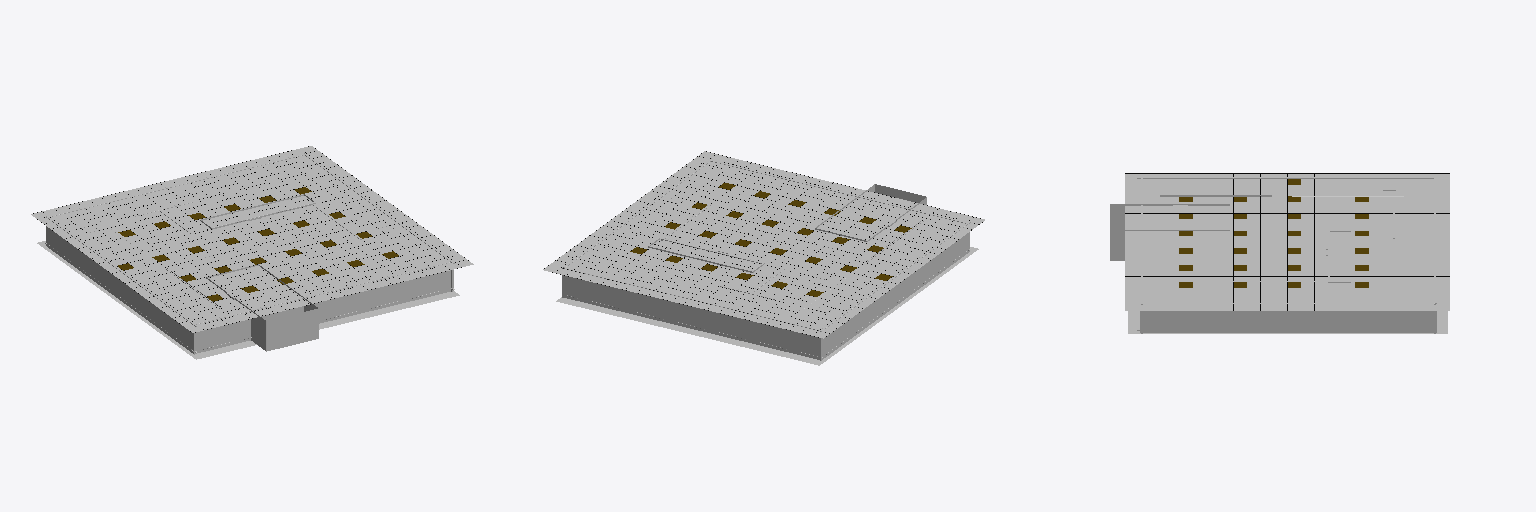
The model's file is Backrooms_Original_Baked.obj.
The picture shows the model from 3 angles: view 1: azimuth 30°, elevation 25°; view 2: azimuth 150°, elevation 25°; view 3: azimuth 270°, elevation 25°; orthographic projection.
Visible parts, largest first — view 1: Ceiling, BackWall_Double_BR.028, Air_Vent.005, Piece1, Carpet_v1.001; view 2: Ceiling, BackWall_Double_BR.028, Air_Vent.005, Carpet_v1.001, Piece1; view 3: Ceiling, BackWall_Double_BR.028, Air_Vent.005, Piece1, Carpet_v1.001.
Boxes of the visible parts, box(x1,y1,x2,y2) form: Ceiling: box(31, 146, 473, 332); BackWall_Double_BR.028: box(45, 153, 454, 354); Air_Vent.005: box(33, 146, 468, 332); Piece1: box(206, 264, 318, 351); Carpet_v1.001: box(37, 241, 459, 359); Ceiling: box(543, 151, 984, 338); BackWall_Double_BR.028: box(562, 158, 970, 360); Air_Vent.005: box(544, 151, 982, 337); Carpet_v1.001: box(556, 247, 978, 365); Piece1: box(815, 184, 926, 241); Ceiling: box(1125, 174, 1449, 310); BackWall_Double_BR.028: box(1137, 177, 1436, 333); Air_Vent.005: box(1125, 173, 1449, 310); Piece1: box(1110, 204, 1229, 260); Carpet_v1.001: box(1128, 311, 1447, 333).
Bounding box in the file's own units: 21.89 × 2.3 × 22.9.